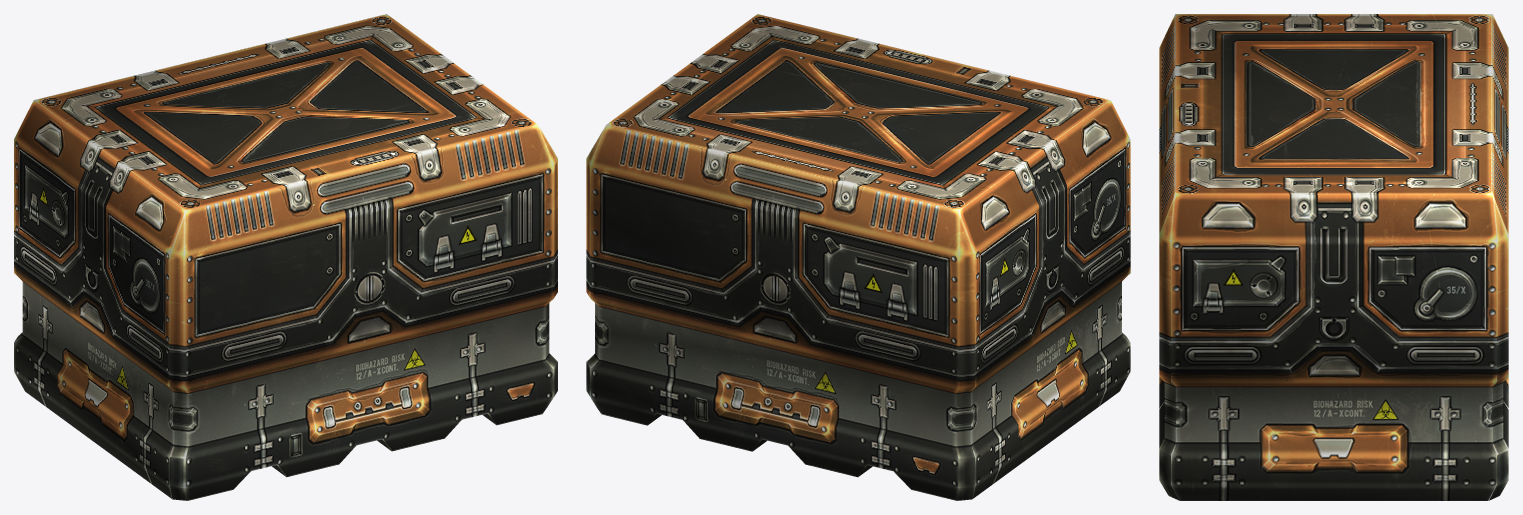
Rendered from crate_toltech_big.FBX.
The picture shows the model from 3 angles, left to right: view 1: azimuth 30°, elevation 25°; view 2: azimuth 150°, elevation 25°; view 3: azimuth 270°, elevation 25°; orthographic projection. The views are drawn at different scales.
Parts seen in each view (by area): view 1: crate_toltech_big; view 2: crate_toltech_big; view 3: crate_toltech_big.
Part boxes in pixels (x1,y1,x2,y2): crate_toltech_big: [14, 14, 557, 500]; crate_toltech_big: [586, 14, 1130, 500]; crate_toltech_big: [1159, 14, 1508, 500].
Bounding box in the file's own units: 285 × 201 × 212.
